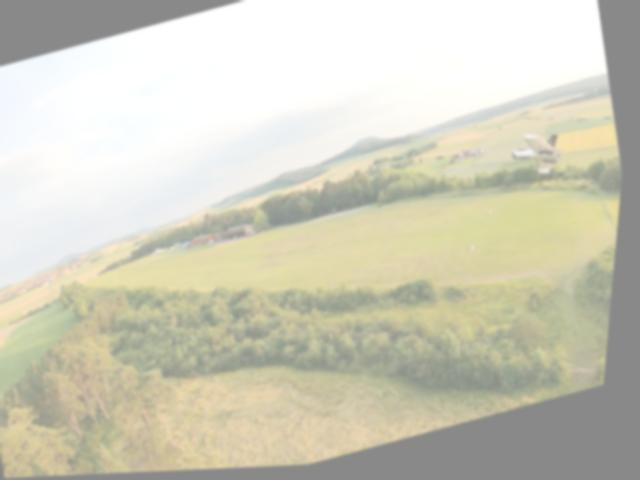plane: (509, 131, 569, 188)
